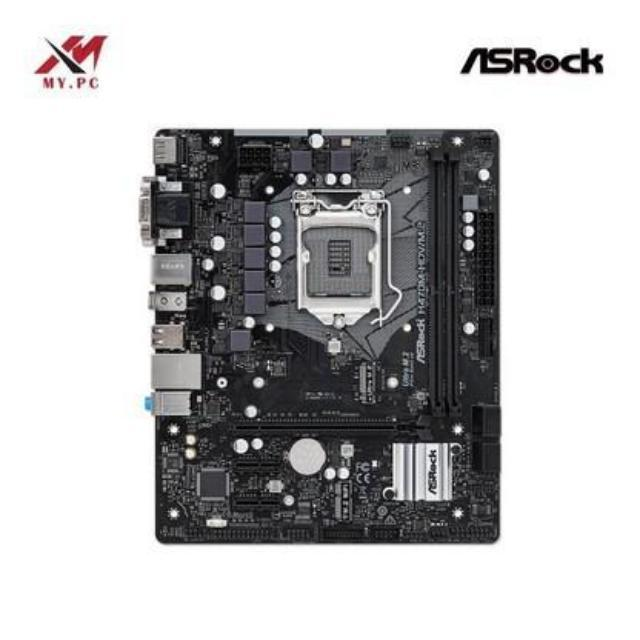Mainboard: (128, 122, 504, 553)
